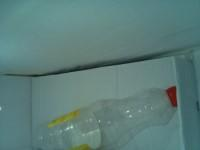bottle: (31, 85, 177, 150)
